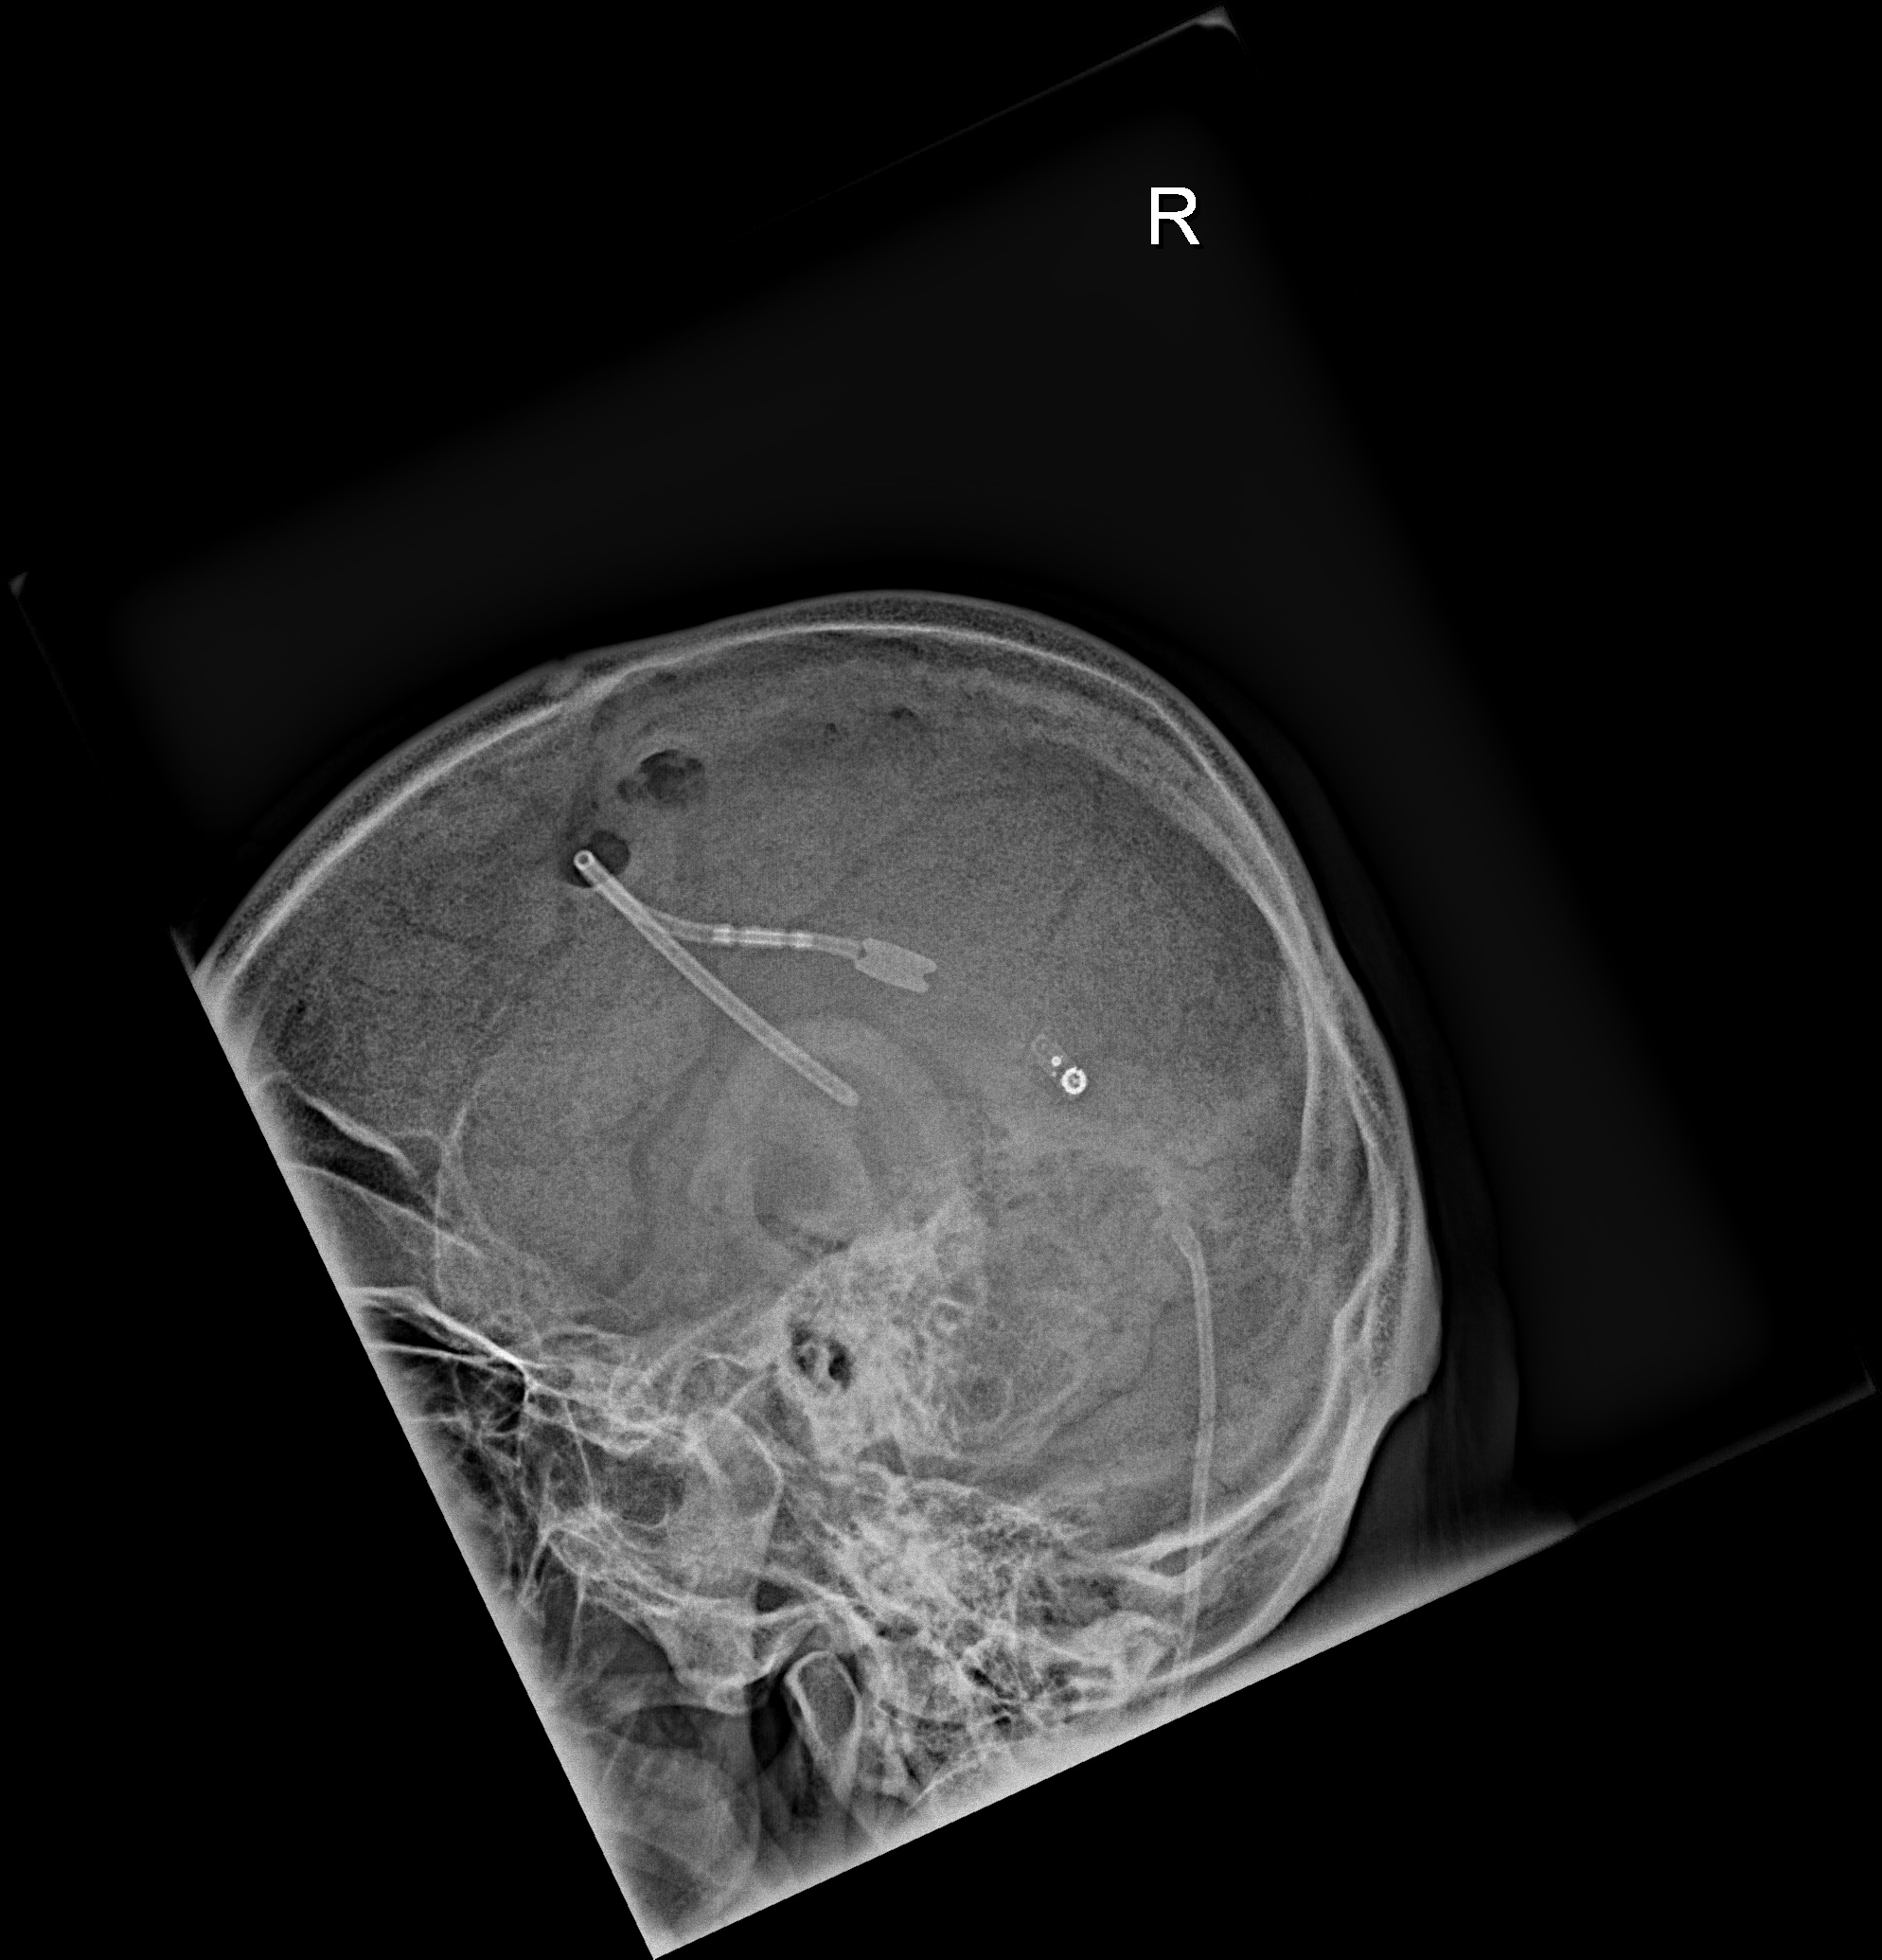Codman Hakim: (1016, 1031, 1100, 1113)
